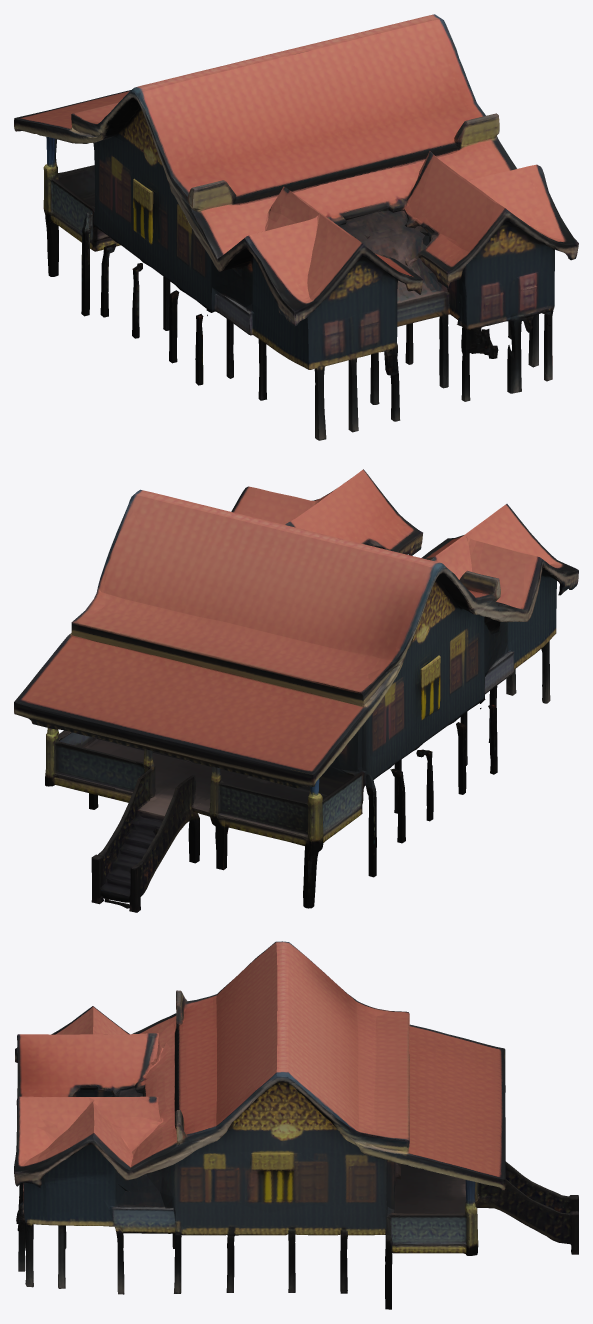
File: jambi.glb
3 renders of one model, top to bottom at view 1: azimuth 30°, elevation 25°; view 2: azimuth 150°, elevation 25°; view 3: azimuth 270°, elevation 25°, orthographic. The views are drawn at different scales.
Parts seen in each view (by area): view 1: world; view 2: world; view 3: world.
Boxes of the visible parts, x1=… form: world: x1=14, y1=14, x2=578, y2=440; world: x1=14, y1=469, x2=578, y2=912; world: x1=14, y1=941, x2=578, y2=1309.
Size of the model in its own units: 0.3978 by 0.3315 by 0.7001.
Materials: 1 (1 with a texture image).
